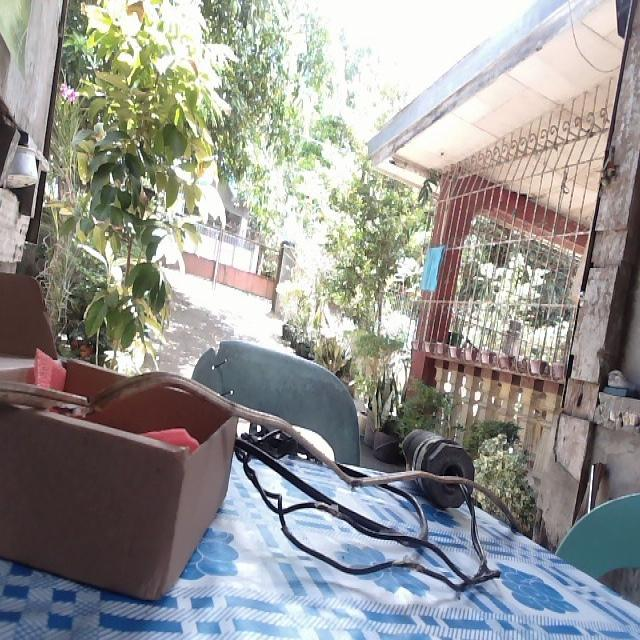-: (311, 497, 337, 515), (391, 556, 420, 571), (348, 477, 359, 488)
